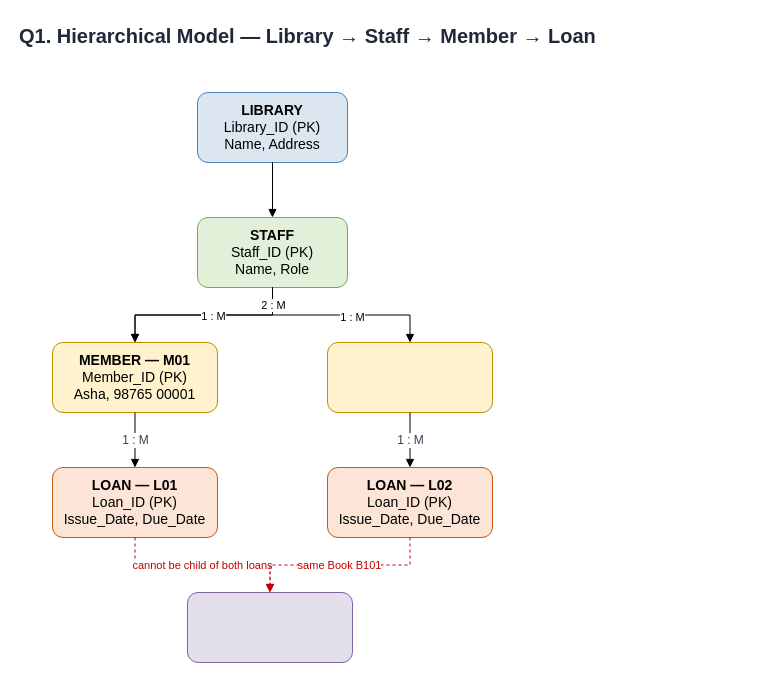
Some shapes in this 784 by 680 pixel diagram are drawn without their labels. The shapes that lost their labels are listed below. From the top down, each one's centre as x and y in pixels, then its label:
pixel 409 377: MEMBER — M02 Member_ID (PK) Ravi, 98765 00002
pixel 269 627: BOOK — B101 Book_ID (PK) Title, Status
